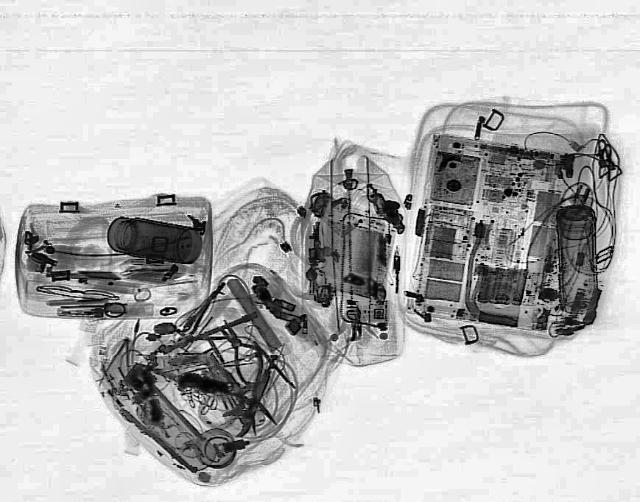Pliers: (205, 338, 289, 440), (200, 312, 282, 387)
